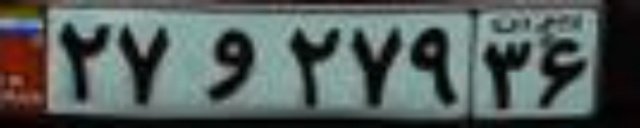2: (287, 25, 340, 109), (57, 22, 113, 101)
3: (482, 39, 532, 109)
6: (535, 38, 586, 109)
7: (115, 23, 170, 107), (349, 24, 403, 106)
9: (406, 25, 454, 106)
vav: (201, 28, 252, 100)
